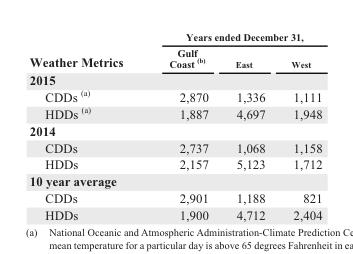table: (28, 29, 321, 222)
table column: (28, 29, 145, 222), (145, 29, 221, 222), (221, 29, 277, 222), (277, 29, 321, 222)
table column header: (28, 29, 321, 70)
table projected row header: (28, 70, 321, 87), (28, 121, 321, 138), (28, 172, 321, 189)
table row: (28, 44, 321, 70), (28, 70, 321, 87), (28, 87, 321, 104), (28, 104, 321, 121), (28, 121, 321, 138), (28, 138, 321, 155), (28, 155, 321, 172), (28, 172, 321, 189), (28, 205, 321, 222), (28, 189, 321, 205), (28, 29, 321, 44)
table spanning cell: (28, 29, 145, 70), (145, 29, 321, 44)
